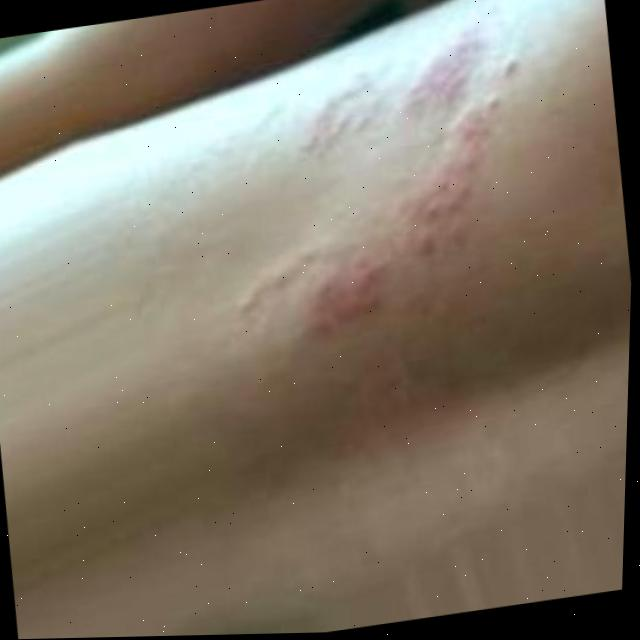Shingles: (251, 20, 528, 354)
